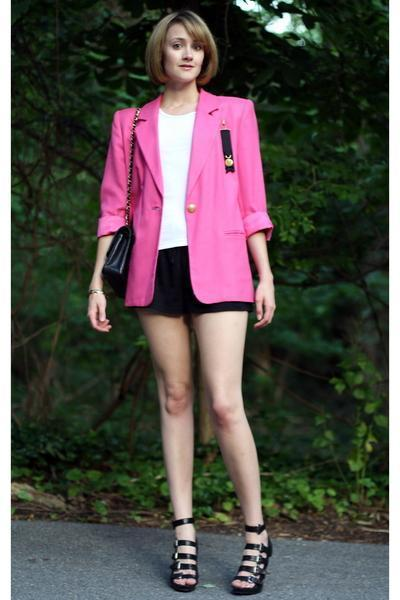bag: (102, 216, 135, 299)
jacket: (98, 90, 272, 305)
shirt: (158, 109, 194, 249)
shoe: (165, 516, 272, 595)
shorts: (147, 246, 267, 330)
